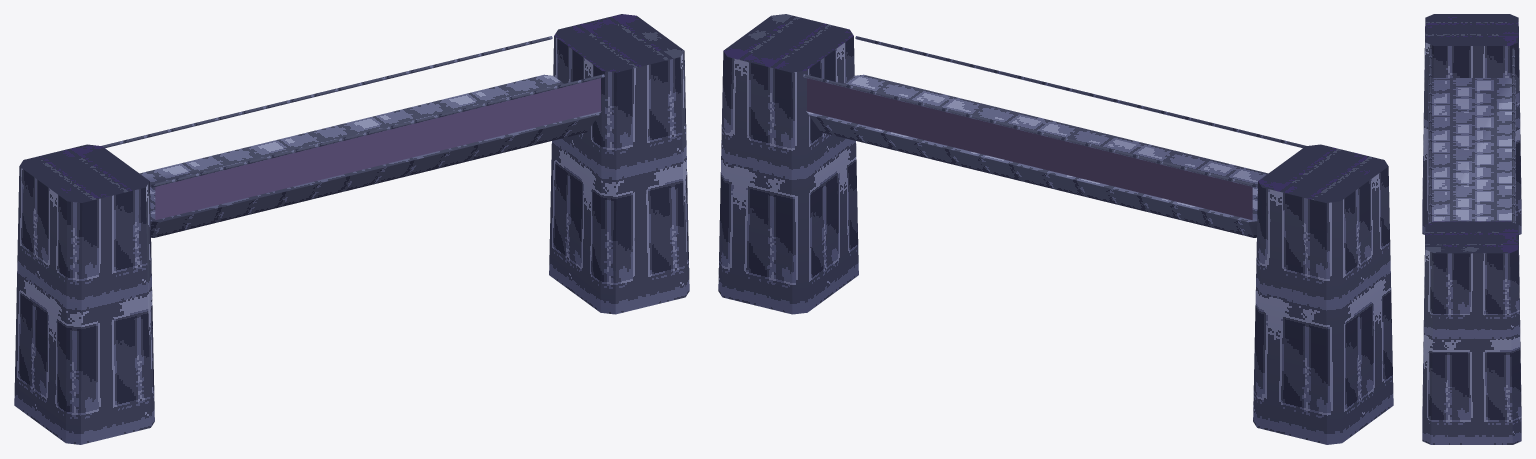
File: cystreet.bridge.glb
3 views of the same model, side by side, from view 1: azimuth 30°, elevation 25°; view 2: azimuth 150°, elevation 25°; view 3: azimuth 270°, elevation 25° (orthographic). The views are drawn at different scales.
Parts seen in each view (by area): view 1: kit_deck, kit_card_glass; view 2: kit_deck, kit_card_glass; view 3: kit_deck.
Part boxes in pixels (left/top/right/bottom): kit_deck: left=14, top=14, right=689, bottom=444; kit_card_glass: left=155, top=78, right=600, bottom=219; kit_deck: left=718, top=14, right=1393, bottom=444; kit_card_glass: left=807, top=78, right=1252, bottom=219; kit_deck: left=1422, top=14, right=1521, bottom=444.
Bounding box in the file's own units: 19.6 × 7.2 × 3.4.
Materials: 7 (6 with a texture image).
